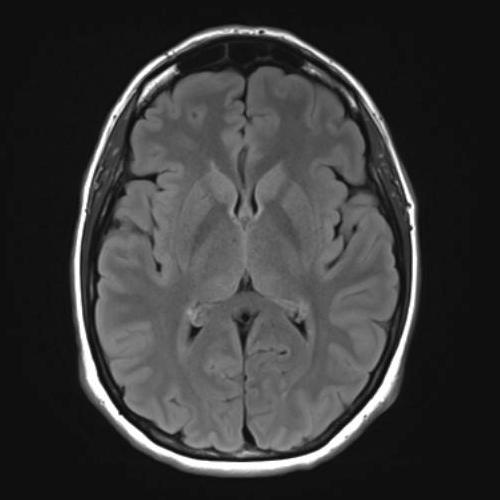Normal_Brain: (43, 1, 474, 500)
